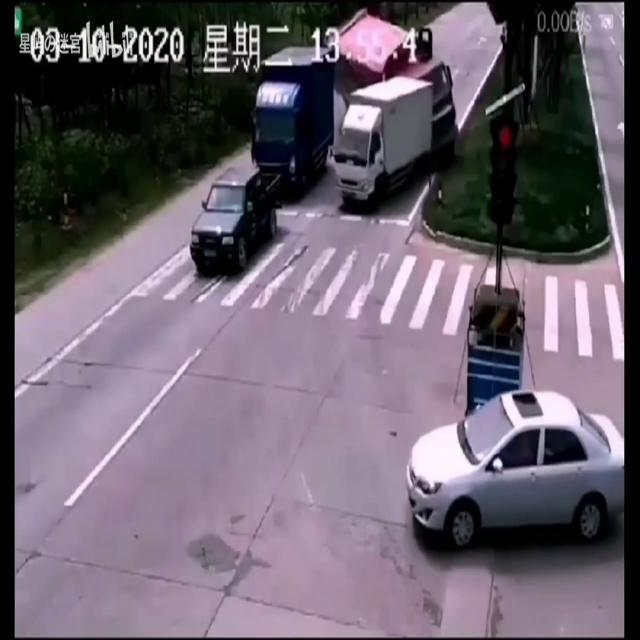accident: (330, 13, 456, 208)
non-accident: (188, 52, 336, 274)
